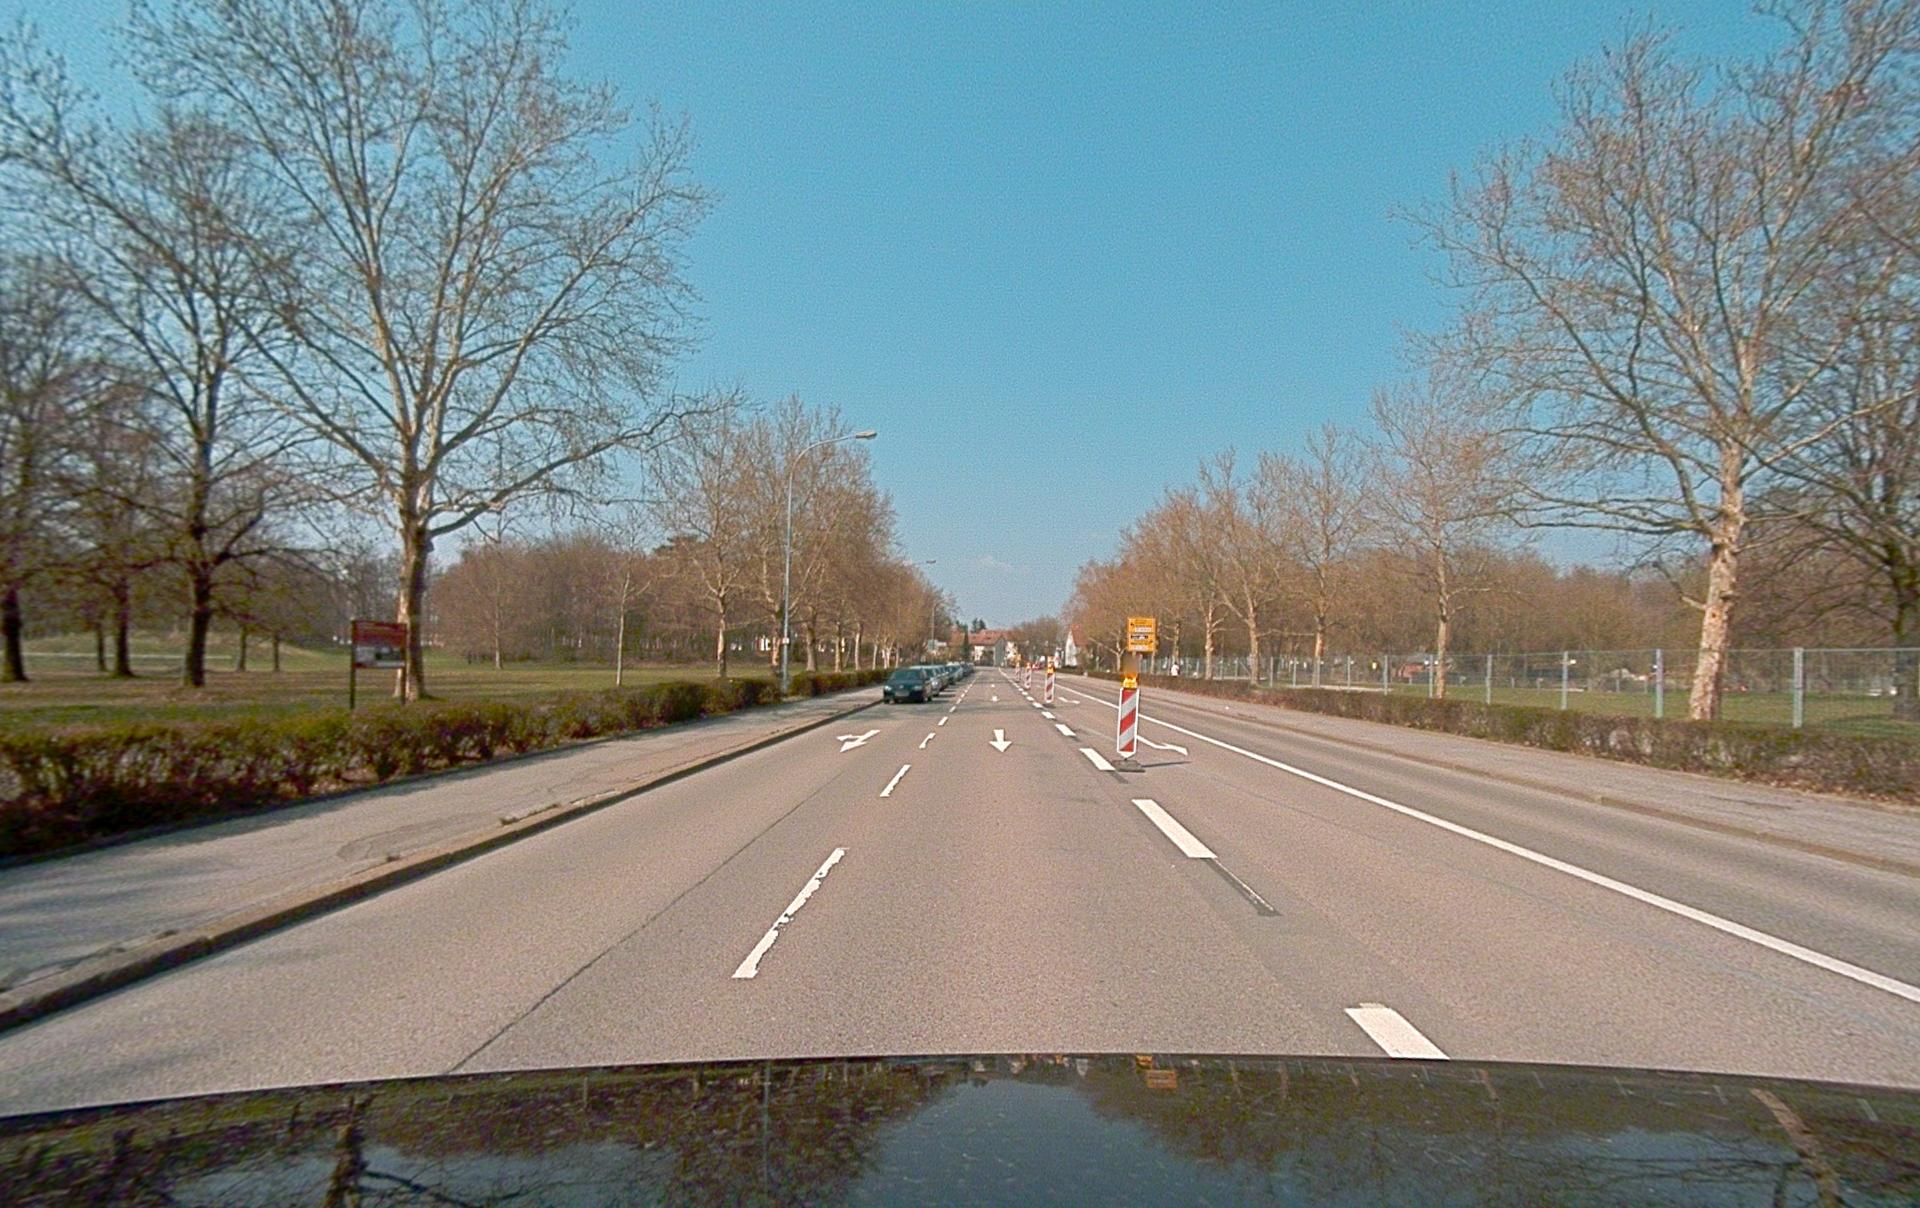car: (883, 668, 931, 704), (912, 664, 950, 695)
traffic sign: (1126, 615, 1157, 654)
